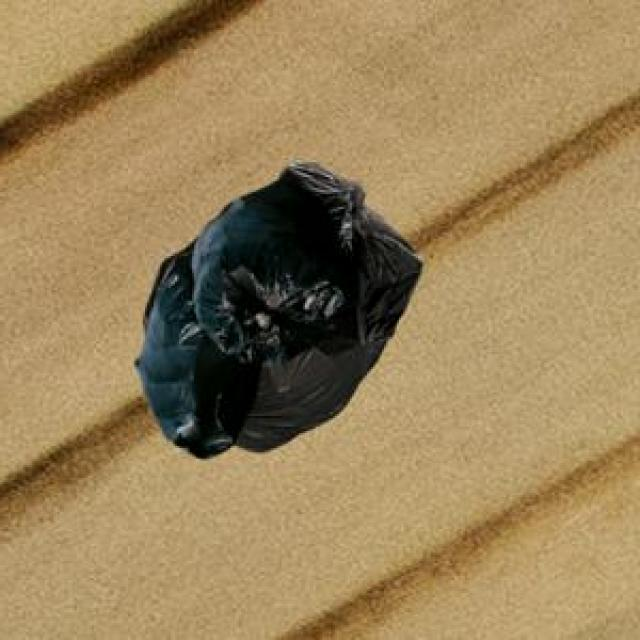Trashbag: (188, 154, 373, 364)
